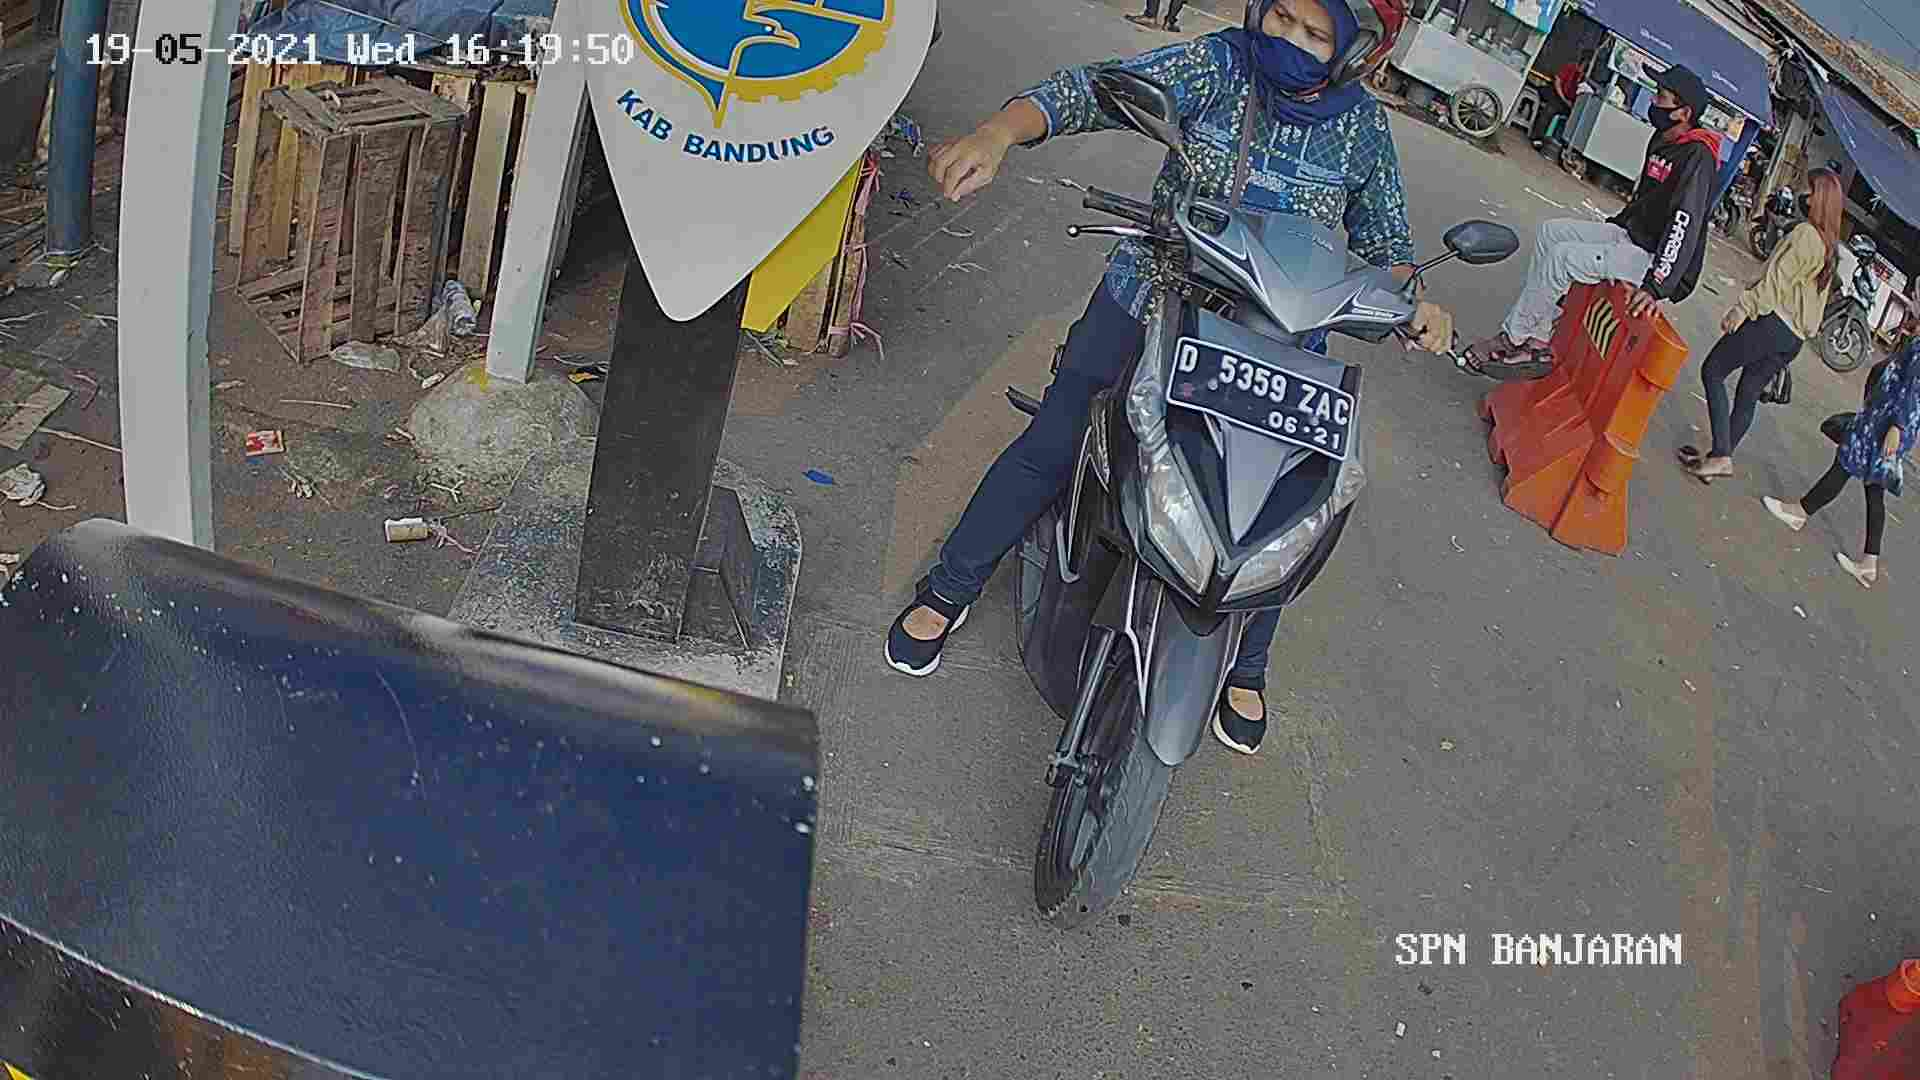motor: (994, 183, 1424, 942)
